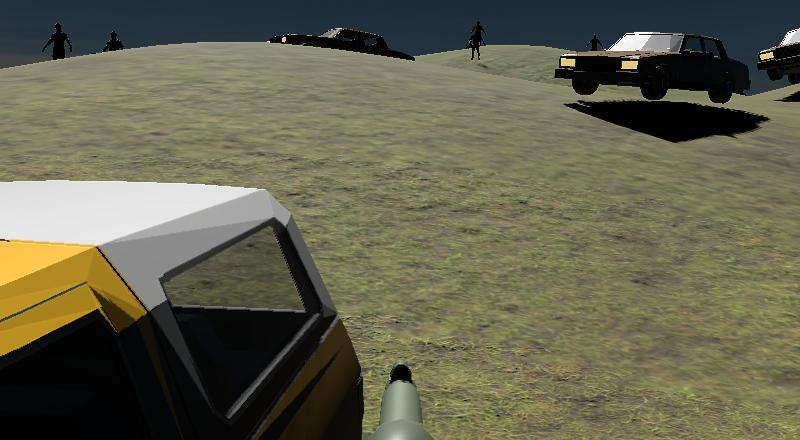Human: (38, 18, 79, 66), (464, 16, 491, 65), (101, 27, 126, 56)
car: (0, 181, 373, 438), (548, 23, 755, 109), (262, 18, 421, 70), (751, 7, 800, 91)
